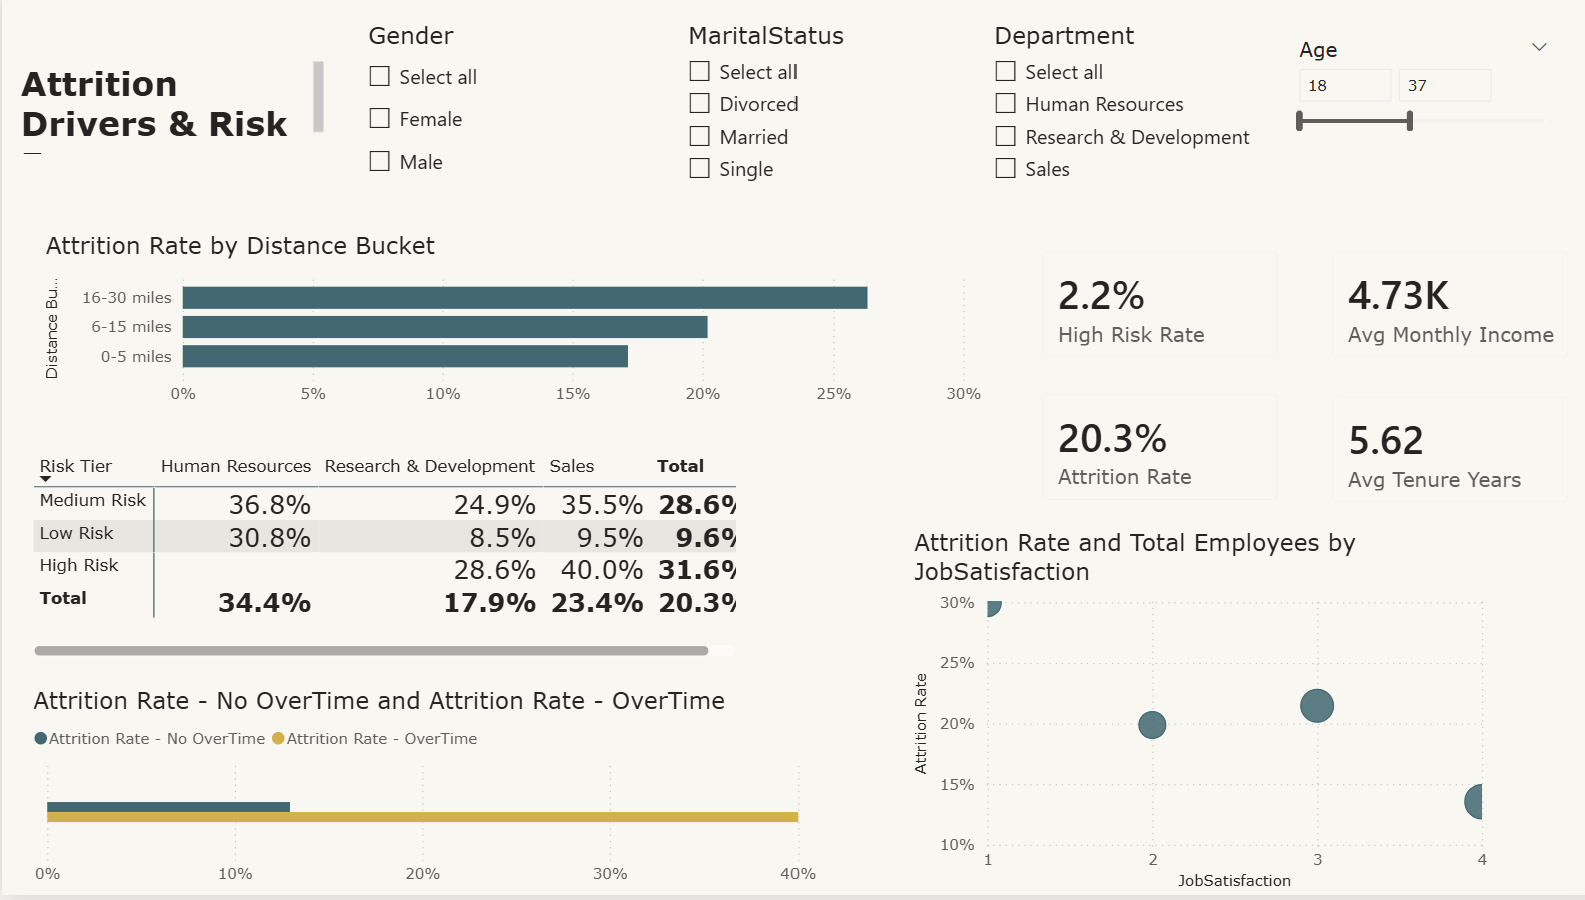

The dashboard page shown, as its layout file describes it:
{"tool":"powerbi","page":{"name":"Drivers","canvas":[1280,720],"ordinal":1},"visuals":[{"type":"cardVisual","fields":{"Data":["Employees.Attrition Rate"]},"box":[814,302,223,119],"z":0},{"type":"cardVisual","fields":{"Data":["Employees.Avg Monthly Income"]},"box":[1046,188,223,119],"z":1000},{"type":"cardVisual","fields":{"Data":["Employees.Avg Tenure Years"]},"box":[1046,304,223,119],"z":2000},{"type":"cardVisual","fields":{"Data":["Employees.High Risk Rate"]},"box":[814,188,223,119],"z":3000},{"type":"textbox","box":[10,48,252,84],"z":4000},{"type":"listSlicer","fields":{"Values":["Employees.Gender"]},"box":[288,20,224,136],"z":5000},{"type":"listSlicer","fields":{"Values":["Employees.MaritalStatus"]},"box":[544,20,224,136],"z":6000},{"type":"listSlicer","fields":{"Values":["Employees.Department"]},"box":[788,20,224,136],"z":7000},{"type":"slicer","fields":{"Values":["Employees.Age"]},"box":[1024,28,224,136],"z":8000},{"type":"clusteredBarChart","fields":{"Y":["Employees.Attrition Rate - No OverTime","Employees.Attrition Rate - OverTime"]},"box":[20,552,636,168],"z":9000},{"type":"pivotTable","fields":{"Rows":["Employees.Risk Tier"],"Columns":["Employees.Department"],"Values":["Employees.Attrition Rate"]},"box":[20,362,572,172],"z":10000},{"type":"scatterChart","fields":{"X":["Employees.JobSatisfaction"],"Y":["Employees.Attrition Rate"],"Size":["Employees.Total Employees"]},"box":[724,426,468,294],"z":11000},{"type":"barChart","fields":{"Category":["Employees.Distance Bucket"],"Y":["Employees.Attrition Rate"]},"box":[30,188,758,148],"z":12000}]}

Visuals, with their boxes in screenshot pixels (x1, y1, x2, y2), scaled from the page's 1280x720 canvas onto the 1585x900 screenshot:
cardVisual - Employees.Attrition Rate: Rect(1008, 378, 1284, 526)
cardVisual - Employees.Avg Monthly Income: Rect(1295, 235, 1571, 384)
cardVisual - Employees.Avg Tenure Years: Rect(1295, 380, 1571, 529)
cardVisual - Employees.High Risk Rate: Rect(1008, 235, 1284, 384)
textbox: Rect(12, 60, 324, 165)
listSlicer - Employees.Gender: Rect(357, 25, 634, 195)
listSlicer - Employees.MaritalStatus: Rect(674, 25, 951, 195)
listSlicer - Employees.Department: Rect(976, 25, 1253, 195)
slicer - Employees.Age: Rect(1268, 35, 1545, 205)
clusteredBarChart - Employees.Attrition Rate - No OverTime x Employees.Attrition Rate - OverTime: Rect(25, 690, 812, 899)
pivotTable - Employees.Risk Tier x Employees.Department: Rect(25, 452, 733, 668)
scatterChart - Employees.JobSatisfaction x Employees.Attrition Rate: Rect(897, 532, 1476, 899)
barChart - Employees.Distance Bucket x Employees.Attrition Rate: Rect(37, 235, 976, 420)
